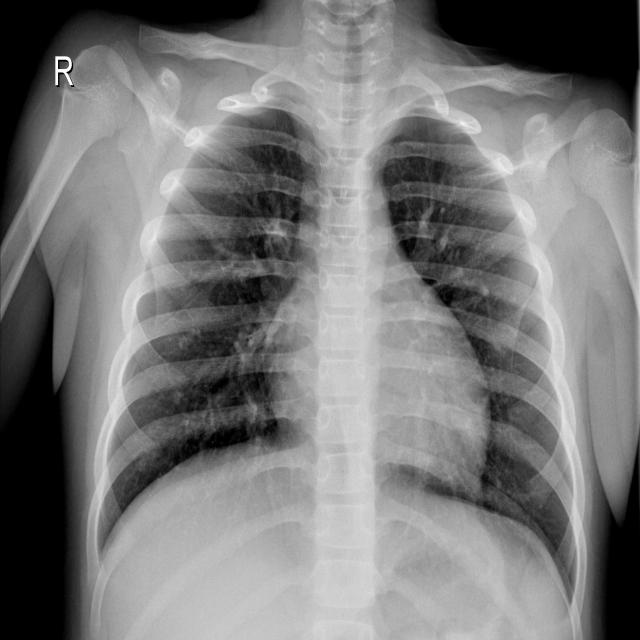no-pneumonia: (97, 108, 320, 552), (381, 115, 576, 586)
